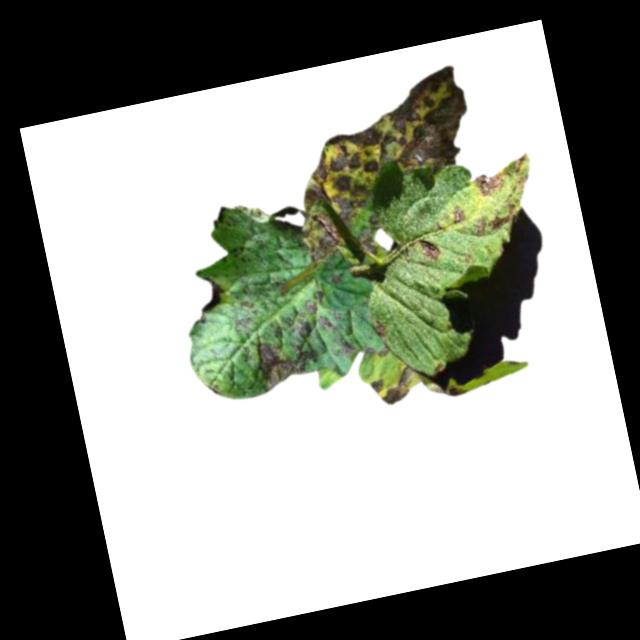Early_blight: (278, 64, 492, 261), (251, 323, 324, 394), (367, 362, 422, 408), (471, 206, 521, 241), (195, 273, 227, 316), (472, 171, 504, 199), (417, 237, 443, 264), (371, 319, 390, 341), (317, 315, 334, 334), (450, 205, 466, 225), (304, 298, 318, 315)
